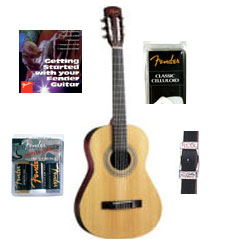guitar: (74, 6, 163, 238)
